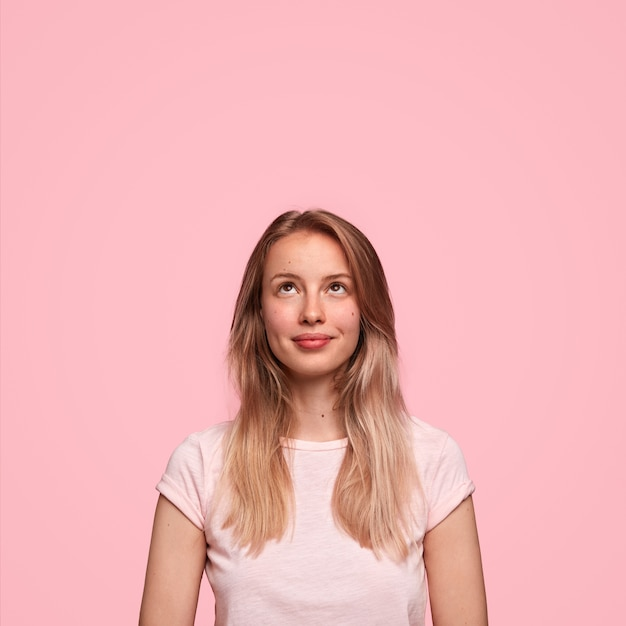teen: (233, 205, 395, 399)
